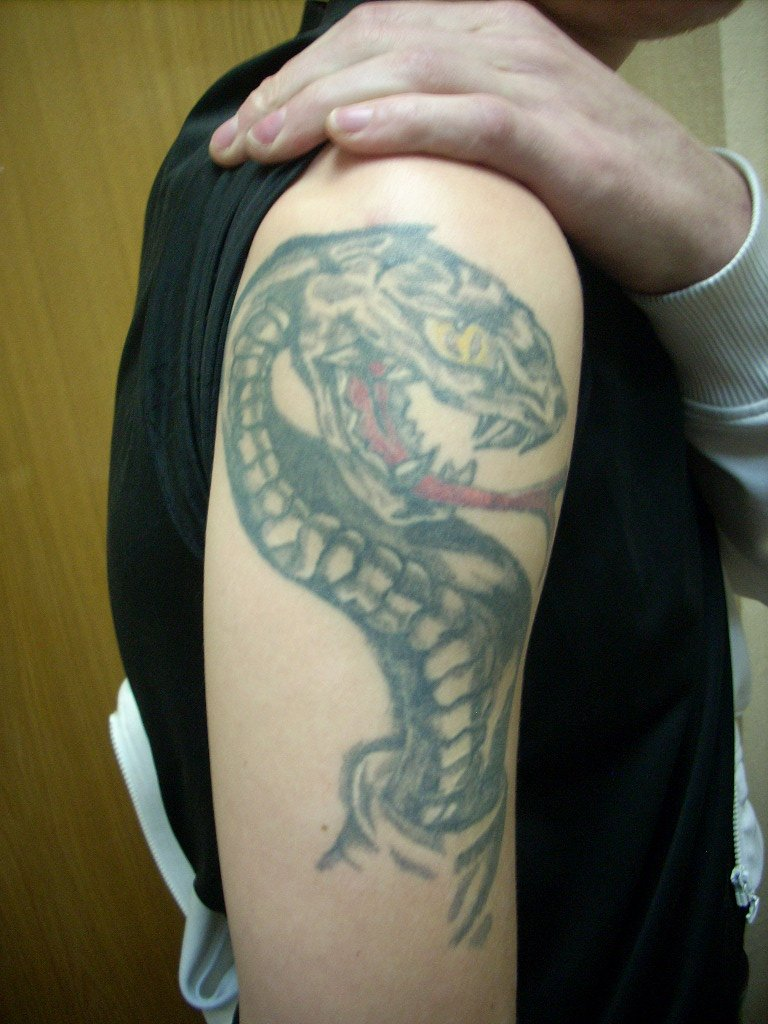tatu7_zmeya: (241, 230, 571, 895)
